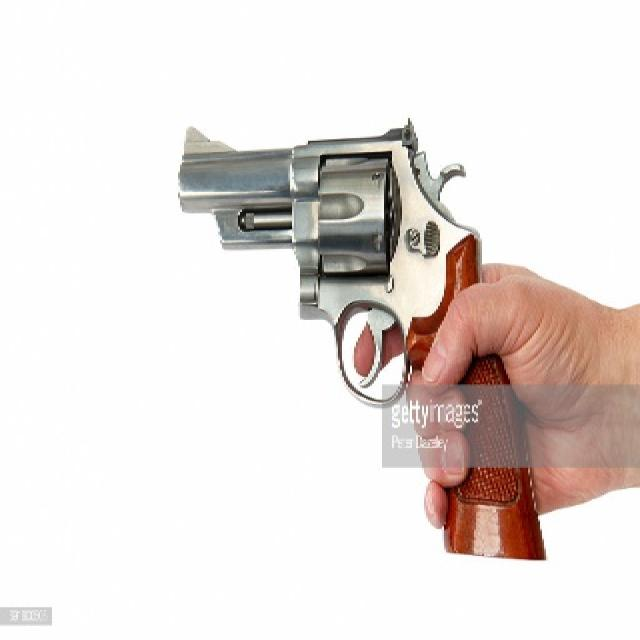handgun: (175, 119, 549, 563)
